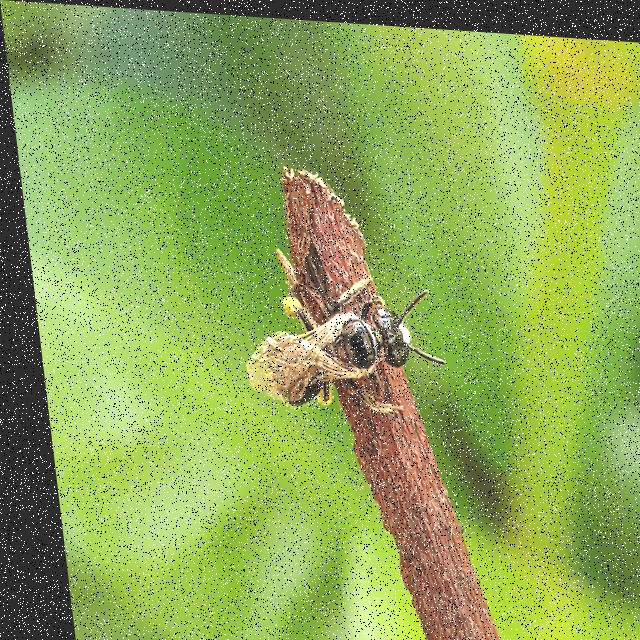Braunsapis: (195, 237, 457, 449)
